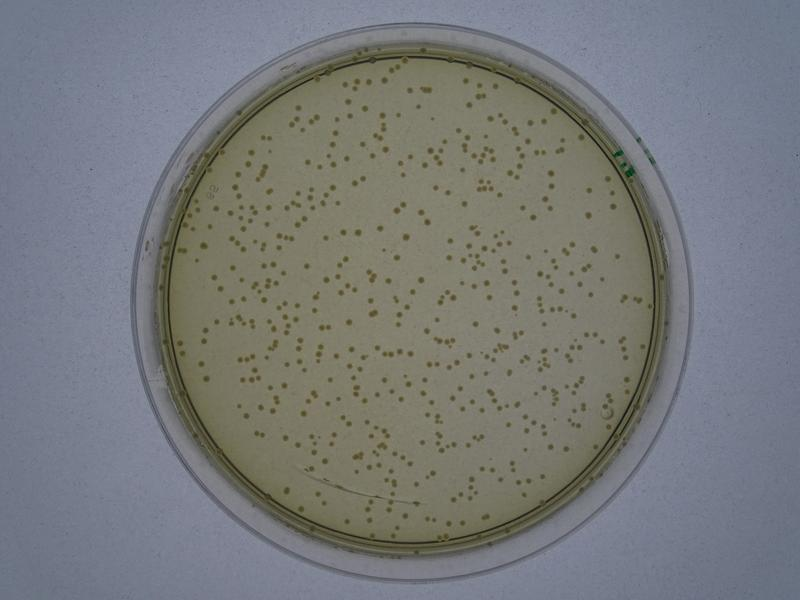colony: (580, 208, 594, 221), (211, 201, 222, 217), (468, 318, 483, 329), (341, 153, 354, 165), (392, 251, 402, 266), (463, 100, 474, 113), (429, 180, 440, 193), (343, 315, 354, 327), (401, 231, 412, 243), (587, 289, 598, 301), (201, 373, 211, 386), (416, 274, 427, 285), (301, 260, 312, 271), (279, 432, 290, 443), (460, 198, 470, 210), (375, 223, 385, 235), (353, 225, 363, 237), (301, 156, 311, 168), (483, 293, 495, 303), (207, 271, 217, 282), (545, 167, 556, 177), (445, 235, 455, 246), (321, 232, 330, 243), (419, 437, 428, 448), (422, 324, 431, 335), (198, 337, 210, 345)
